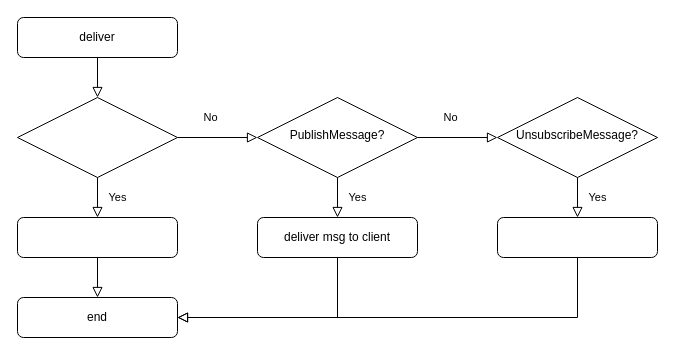
Image size: 675x355. Some labels were removed from this diagram. The shapes that lost their labels are listed below. From the top down, each one's centre as x and y in pixels, then its label:
At [97,137]: "SubscribeMessage?".
At [97,237]: "receive msg for topics".
At [577,237]: "remove source from child".
